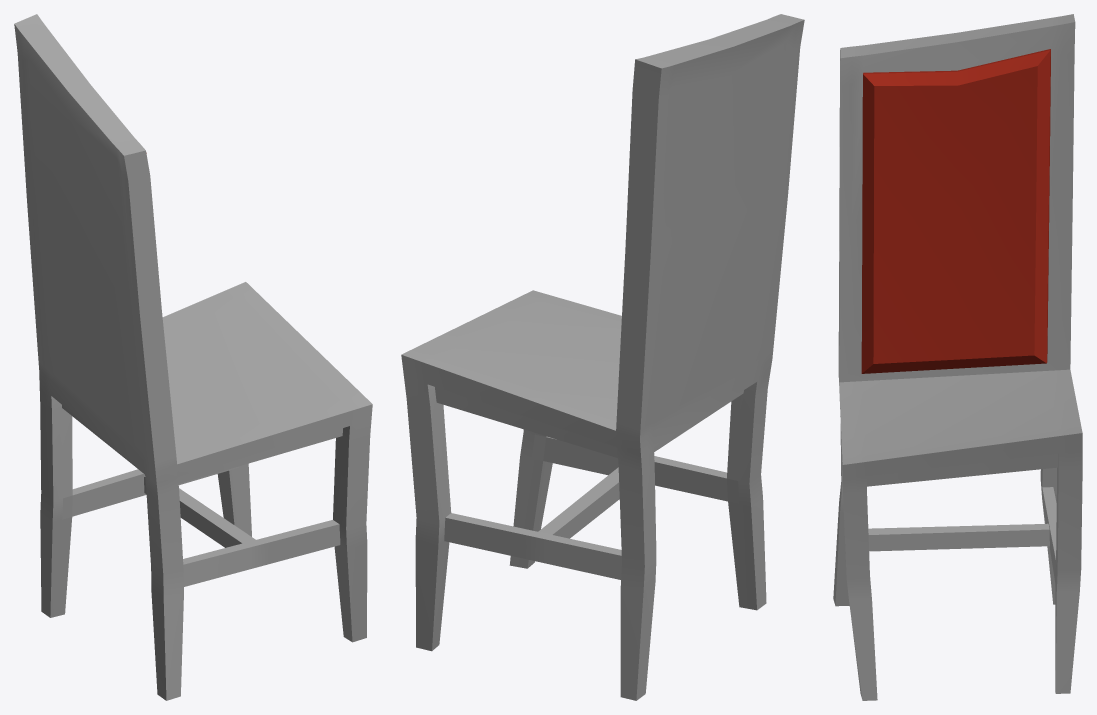
Rendered from chair.fbx.
3 renders of one model, left to right at view 1: azimuth 30°, elevation 25°; view 2: azimuth 150°, elevation 25°; view 3: azimuth 270°, elevation 25°, orthographic. The views are drawn at different scales.
Visible parts, largest first — view 1: chair; view 2: chair; view 3: chair.
Boxes of the visible parts, x1,y1,x2,y2 form: chair: (14,14,372,700); chair: (401,14,804,700); chair: (833,14,1082,700).
Size of the model in its own units: 18.08 by 40.49 by 15.89.
